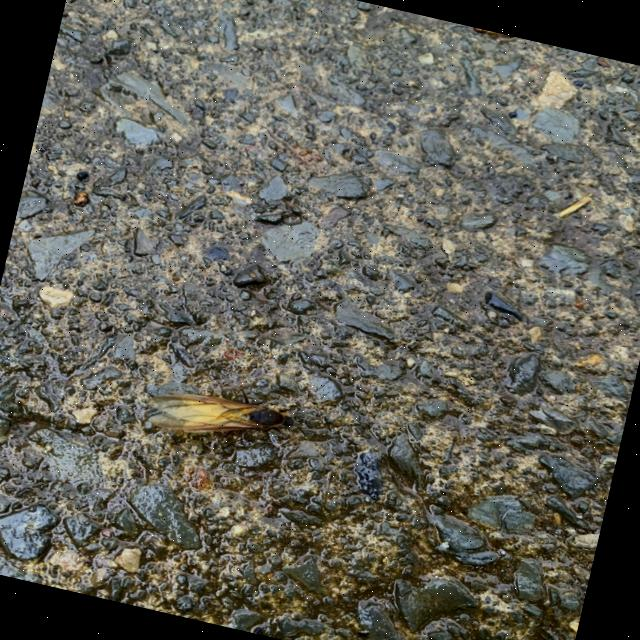Alive-Male-Alate: (140, 354, 342, 470)
